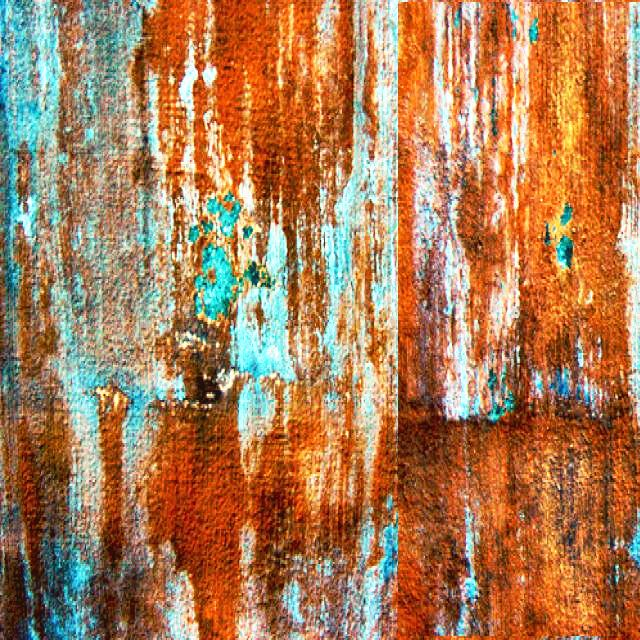Corrosion: (398, 404, 640, 640), (205, 0, 352, 382), (519, 2, 631, 410), (238, 378, 371, 612), (147, 392, 251, 640), (399, 2, 438, 404)
